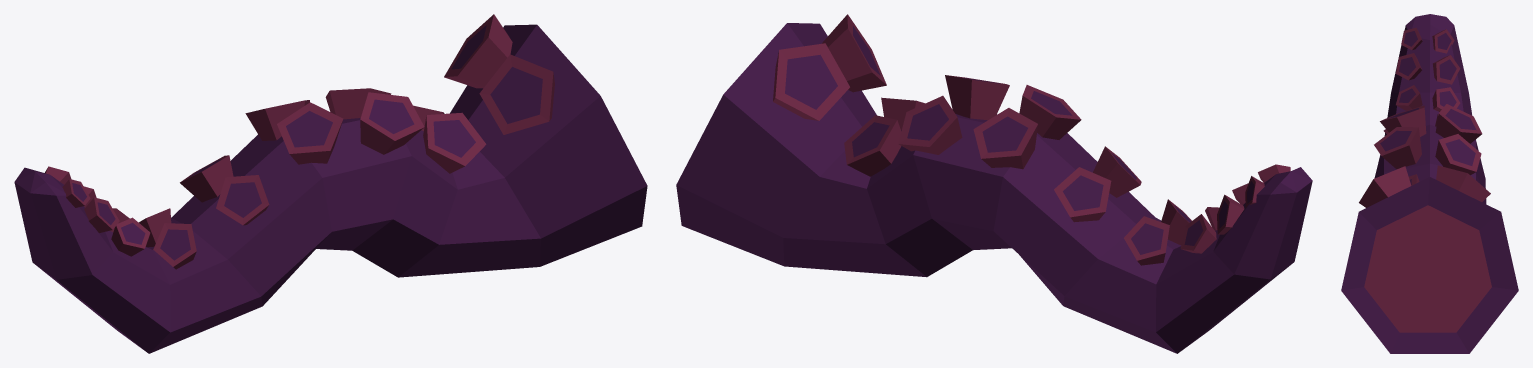
Rendered from Tentacle.obj.
The picture shows the model from 3 angles, left to right: view 1: azimuth 30°, elevation 25°; view 2: azimuth 150°, elevation 25°; view 3: azimuth 270°, elevation 25°; orthographic projection. The views are drawn at different scales.
Parts seen in each view (by area): view 1: Tentacle_Cube.019; view 2: Tentacle_Cube.019; view 3: Tentacle_Cube.019.
Boxes of the visible parts, left/top/right/bottom form: Tentacle_Cube.019: left=14, top=14, right=647, bottom=353; Tentacle_Cube.019: left=676, top=14, right=1312, bottom=353; Tentacle_Cube.019: left=1341, top=14, right=1518, bottom=353.
Size of the model in its own units: 0.762 by 0.2757 by 0.2673.
